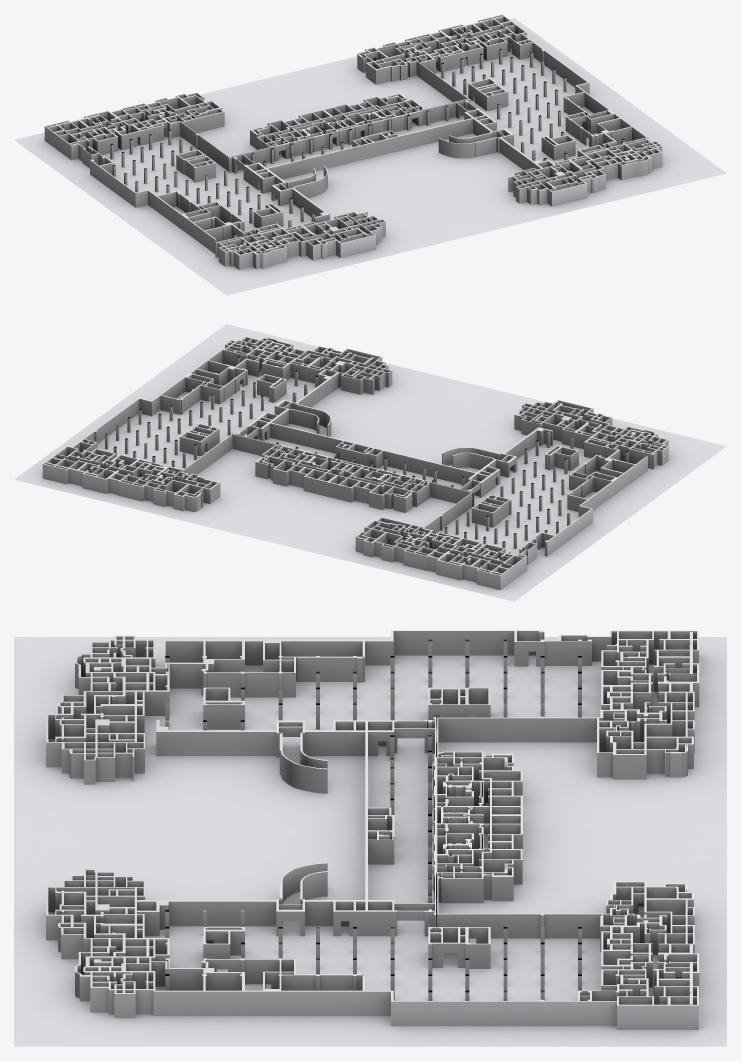
File: BLD-2-B1.FBX
3 renders of one model, top to bottom at view 1: azimuth 30°, elevation 25°; view 2: azimuth 150°, elevation 25°; view 3: azimuth 270°, elevation 25°, orthographic. The views are drawn at different scales.
Parts seen in each view (by area): view 1: B1, Plane572; view 2: B1, Plane572; view 3: Plane572, B1.
Part boxes in pixels (box(x1,y1,x2,y2)): B1: box(44, 14, 662, 270); Plane572: box(14, 18, 726, 295); B1: box(42, 336, 668, 590); Plane572: box(14, 324, 726, 601); Plane572: box(14, 637, 726, 1046); B1: box(46, 630, 699, 1029).
Bounding box in the file's own units: 145 × 4.03 × 106.
